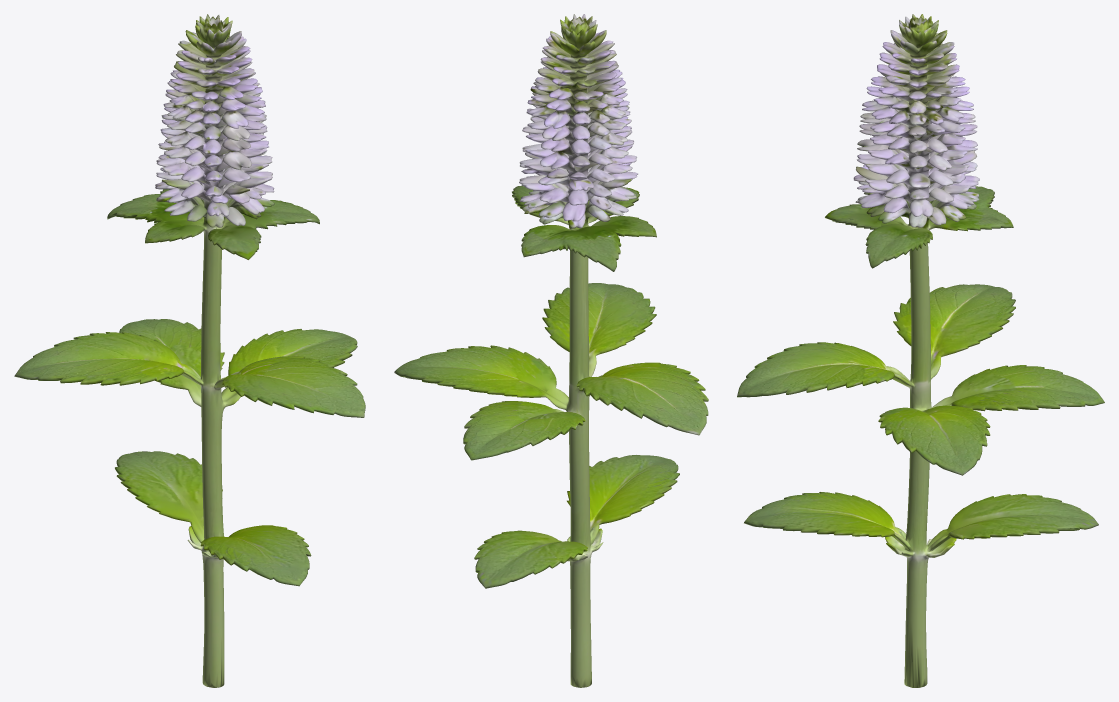
File: liulanxiang.glb
The picture shows the model from 3 angles, left to right: view 1: azimuth 30°, elevation 25°; view 2: azimuth 150°, elevation 25°; view 3: azimuth 270°, elevation 25°; orthographic projection.
Visible parts, largest first — view 1: node_0; view 2: node_0; view 3: node_0.
Part boxes in pixels (x1,y1,x2,y2): node_0: [14, 14, 365, 687]; node_0: [394, 14, 708, 687]; node_0: [737, 14, 1104, 687].
Size of the model in its own units: 0.6093 by 1.2 by 0.6005.
Materials: 1 (1 with a texture image).
